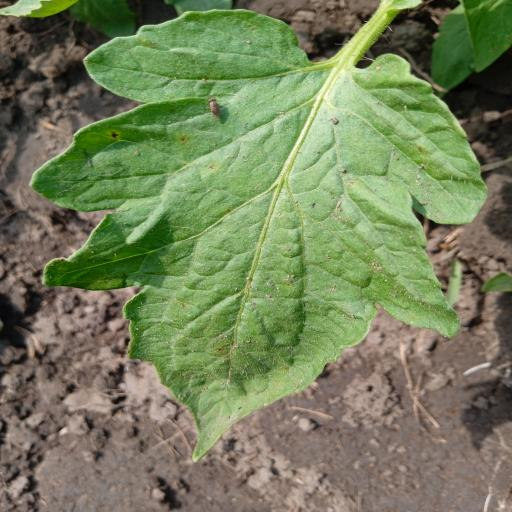Tomato_Brown_Spots: (30, 5, 489, 466)
